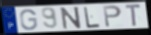9: (41, 7, 59, 32)
G: (19, 9, 39, 32)
L: (83, 6, 102, 29)
N: (60, 6, 83, 30)
P: (102, 5, 123, 29)
T: (124, 3, 142, 28)
